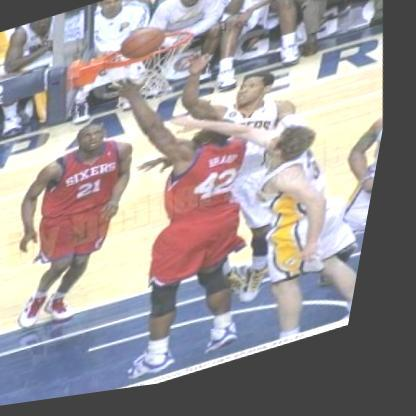basketball: (113, 18, 177, 73)
